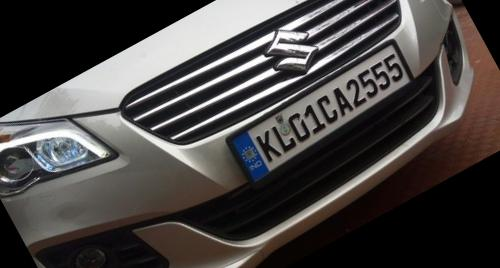plate: (218, 36, 432, 191)
